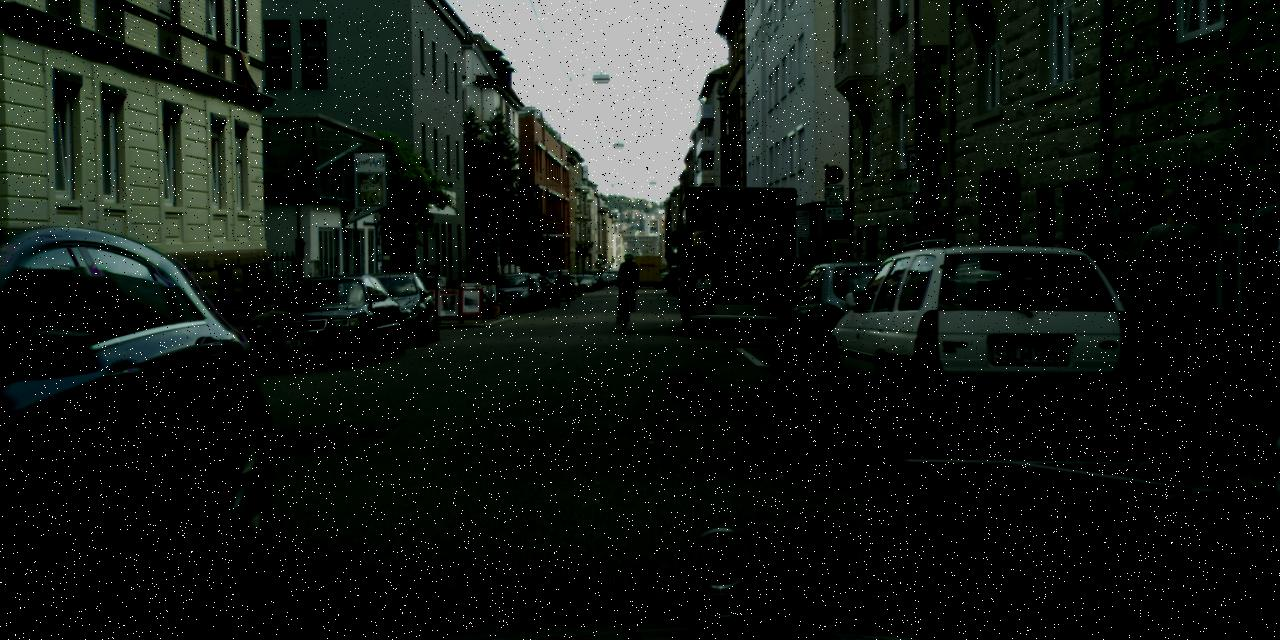ped: (1130, 188, 1220, 411), (1229, 168, 1279, 408), (614, 253, 640, 315)
